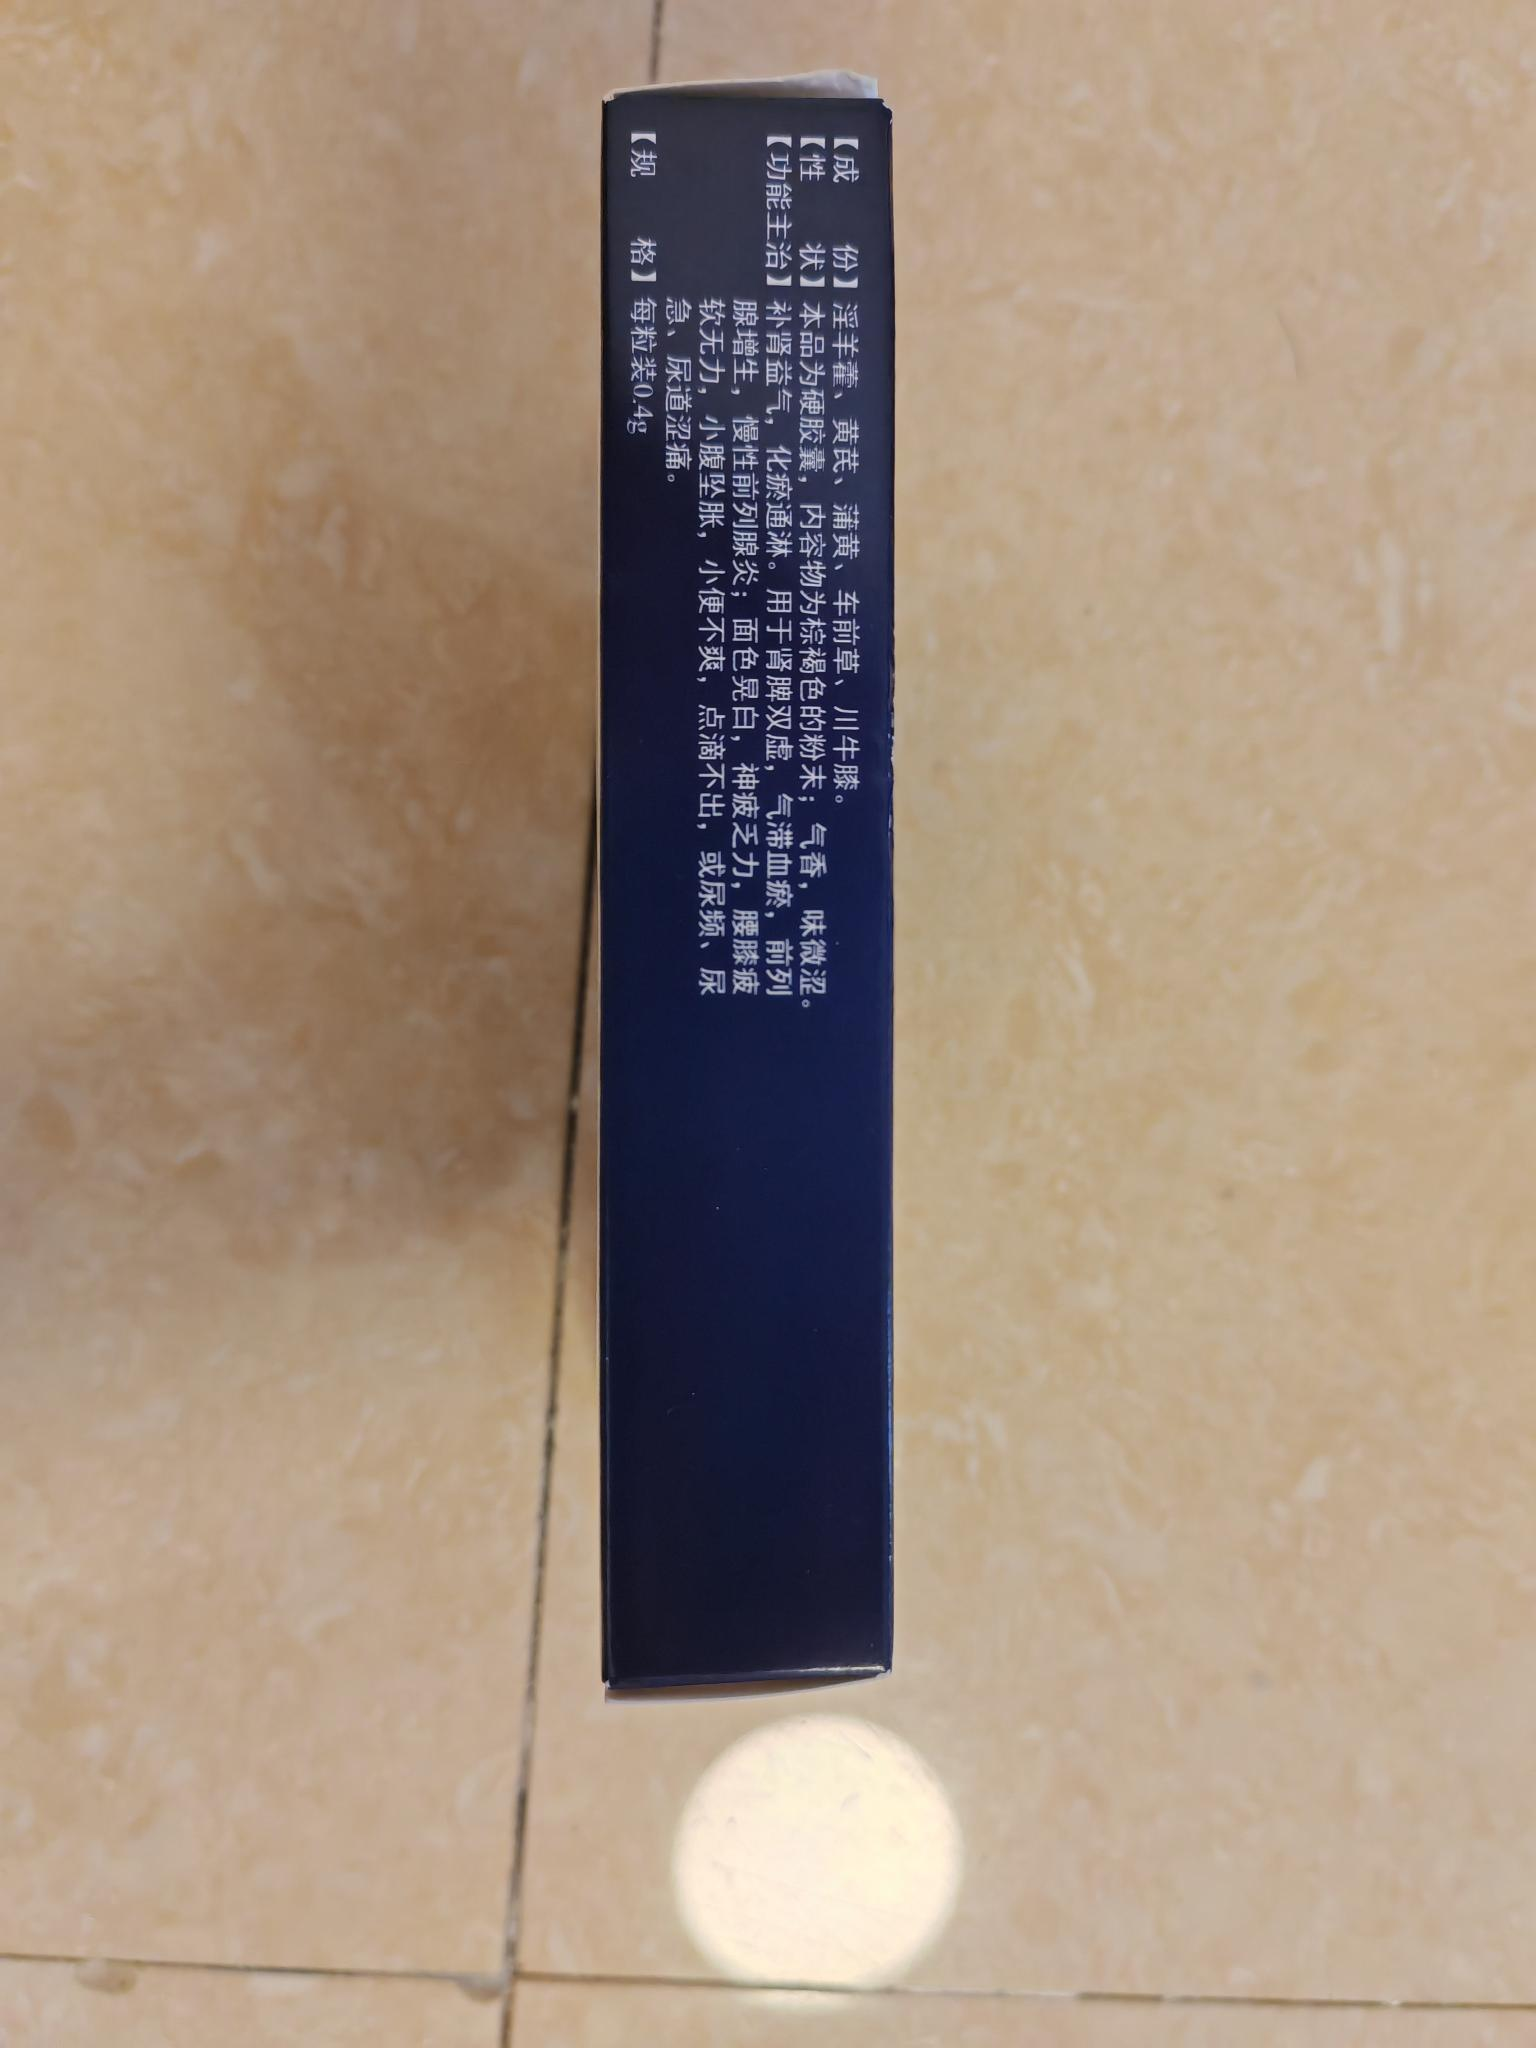Medicine2: (52, 614, 1536, 959)
